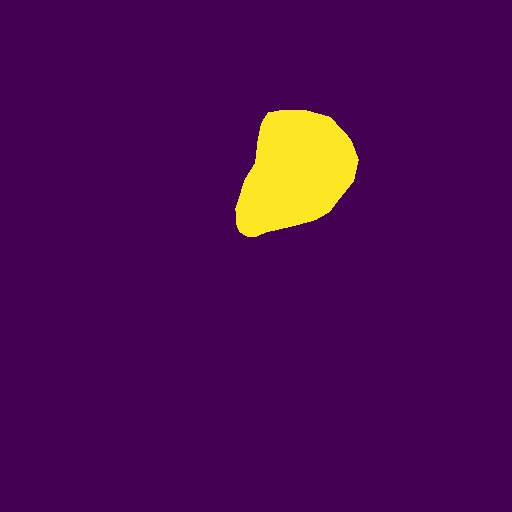Gliomia_tumour: (235, 110, 359, 237)
